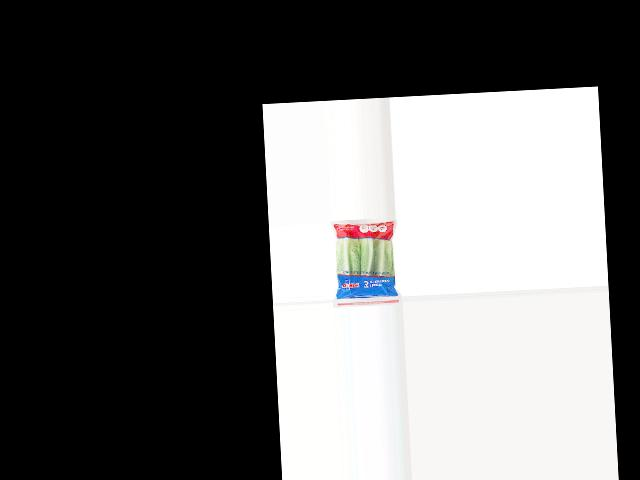lettuce: (329, 218, 399, 303)
